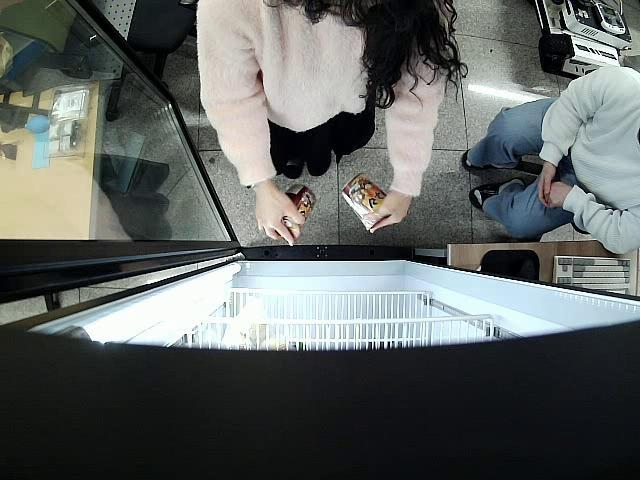06_nuguri_S: (343, 174, 392, 231), (282, 186, 316, 236)
